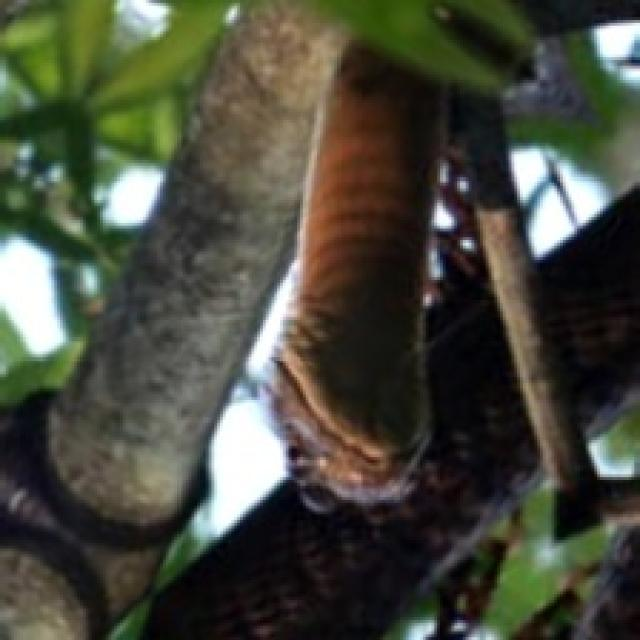king cobra: (0, 3, 534, 637)
